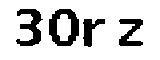0: (46, 5, 82, 52)
3: (9, 4, 43, 51)
r: (82, 13, 110, 54)
z: (115, 13, 150, 51)
